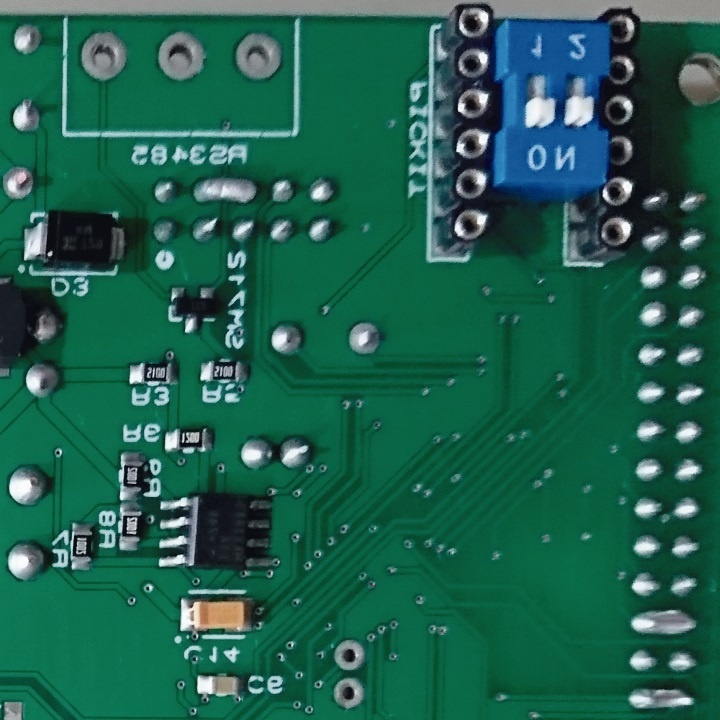F: (153, 27, 213, 85), (74, 29, 131, 86), (230, 28, 286, 86), (11, 20, 47, 60), (1, 162, 36, 202), (347, 318, 382, 355), (333, 676, 367, 713), (334, 635, 367, 672), (10, 98, 42, 136)
P: (193, 170, 261, 209), (627, 681, 696, 713), (630, 606, 697, 638)
